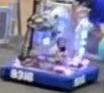blue_number: (10, 68, 35, 85)
